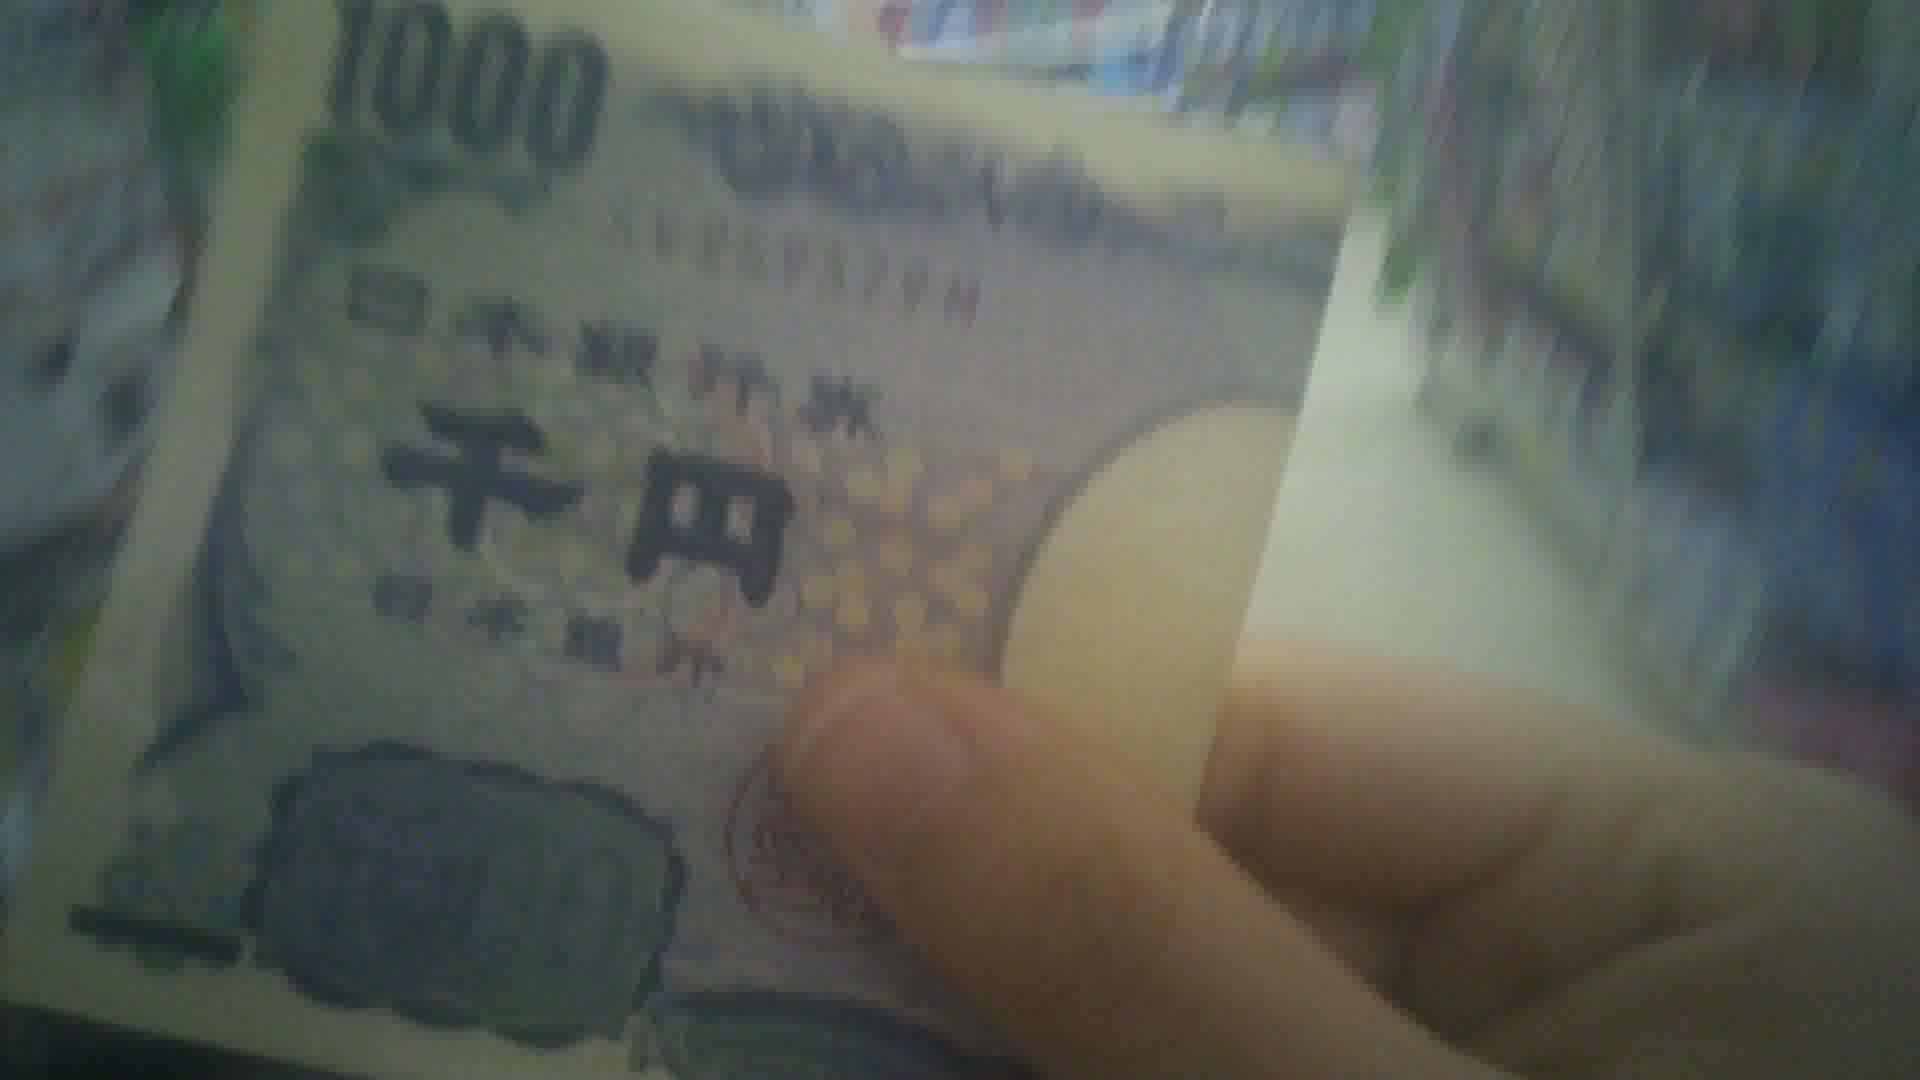1,000 Yen: (103, 3, 1329, 1079)
